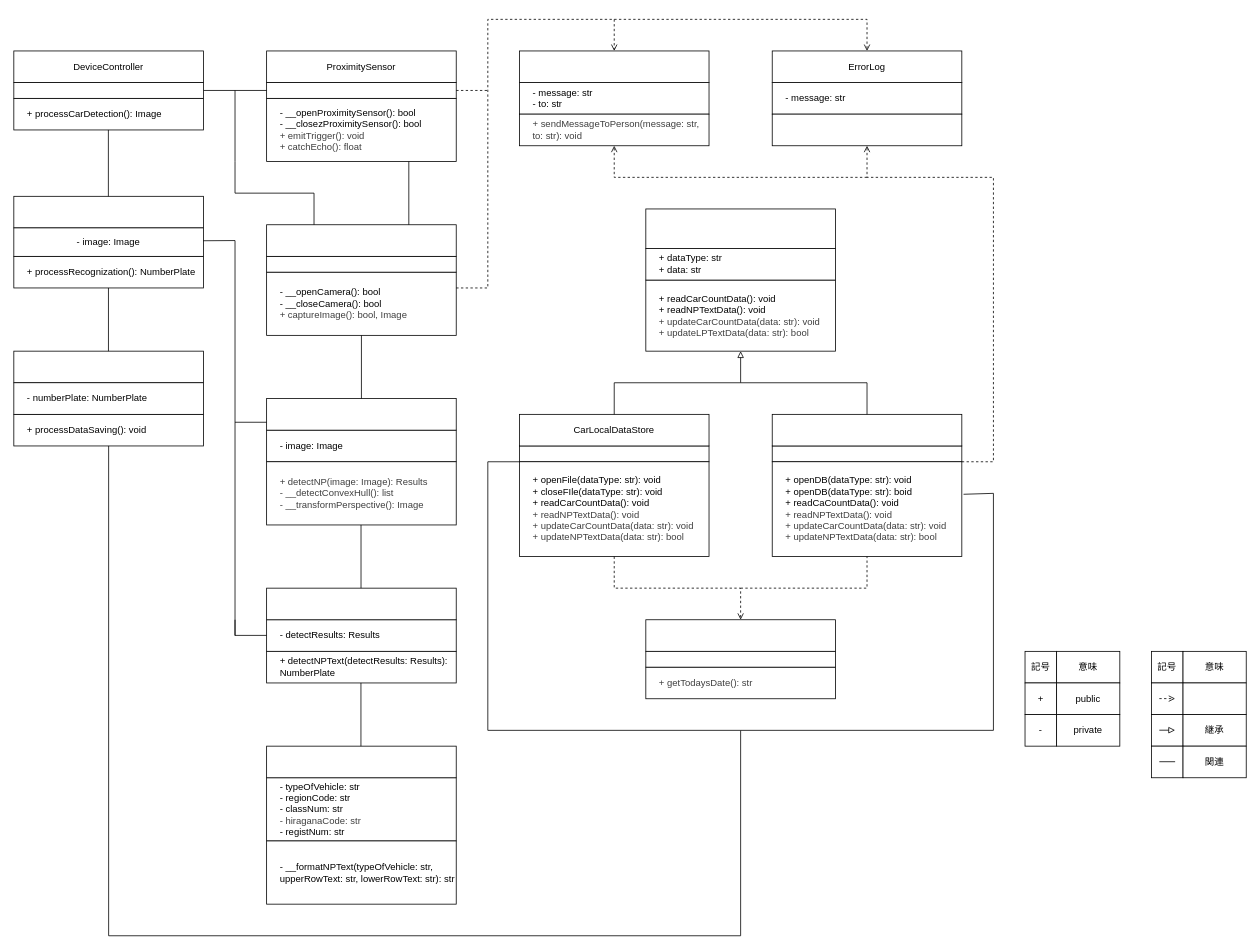
Image size: 1260x950. Some labels were removed from this diagram. Here are the shapes that lost their labels. From the top down, the centre of each, then its label:
point 614,66: Notification
point 866,129: + saveErrorLog(message: str): void
point 108,212: RecognizerController
point 740,228: <<abstract>> AbstractCarDataStore
point 361,240: Camera
point 108,366: DataSaverController
point 361,414: Number PlateRecognizer
point 866,430: CarDBDataStore
point 361,603: NumberPlateTextRecognizer
point 740,635: CarDataStoreUtilities
point 1214,698: 依存
point 361,761: NumberPlate
